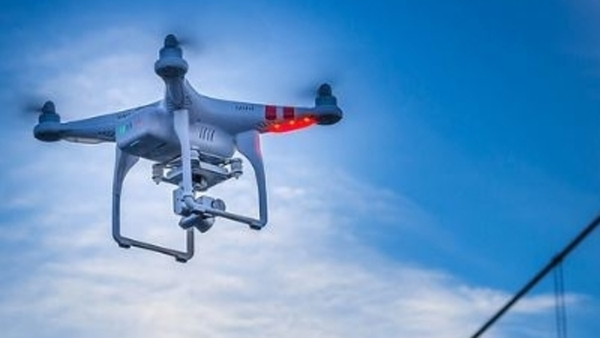drone: (28, 28, 347, 267)
